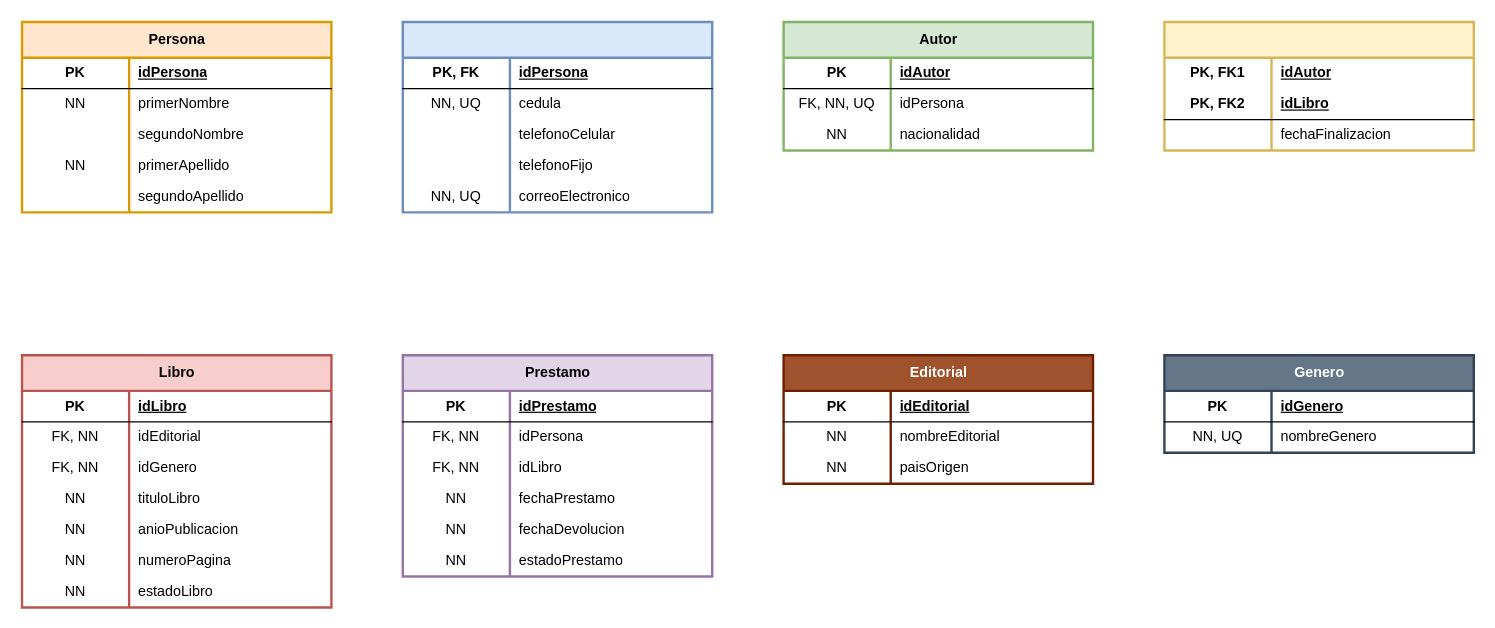
This 1495x628 diagram has some shape labels left out. Each missing label, with the box of its shape:
AutorLibro: (1163, 20, 1474, 151)
Usuario: (401, 20, 713, 213)
